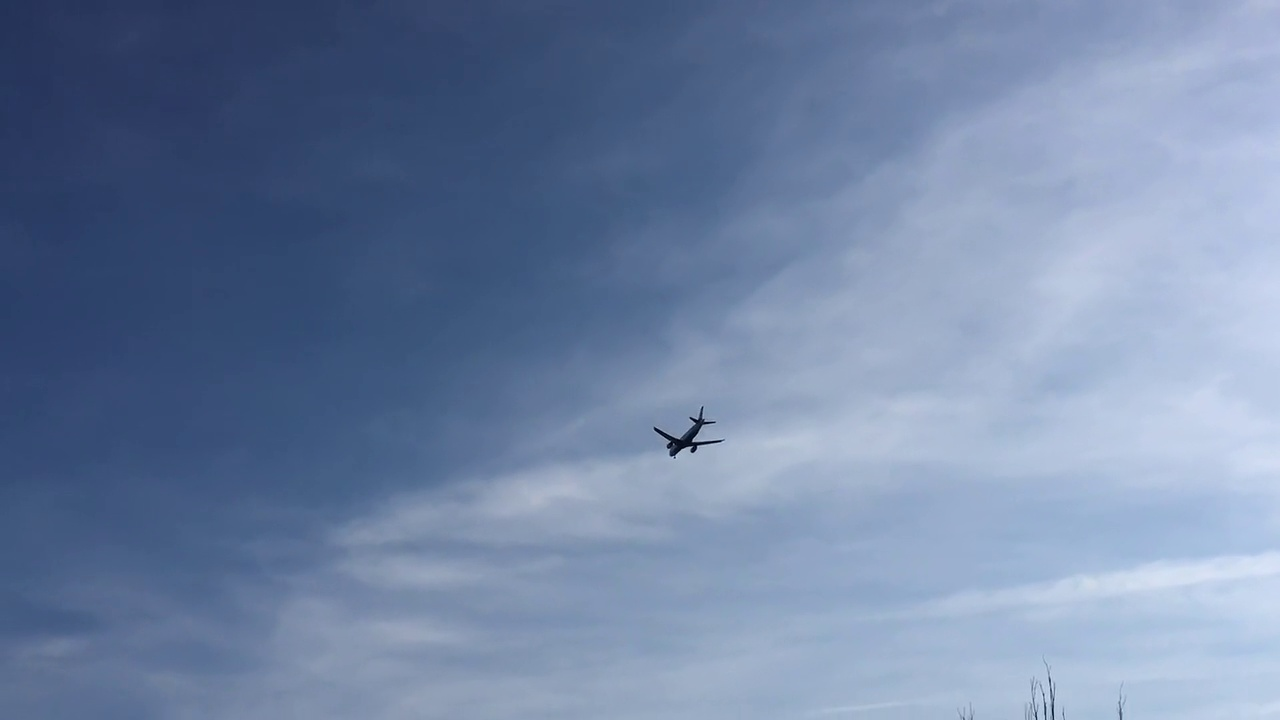plane: (652, 405, 724, 459)
